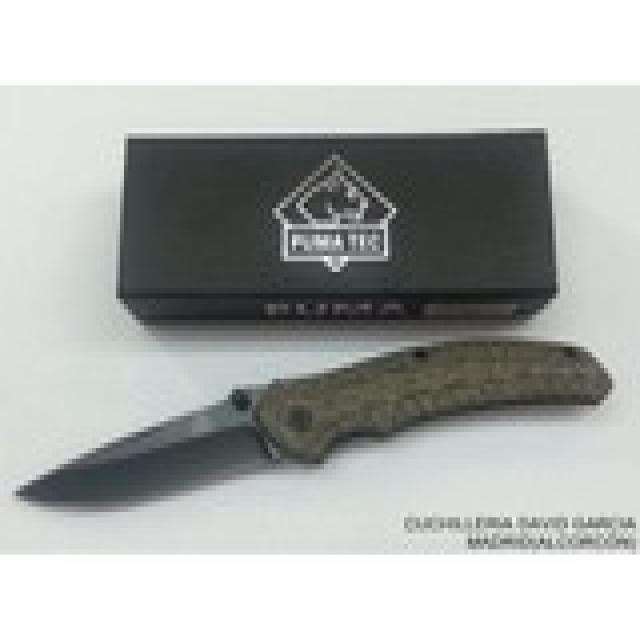Knife: (8, 326, 618, 530)
